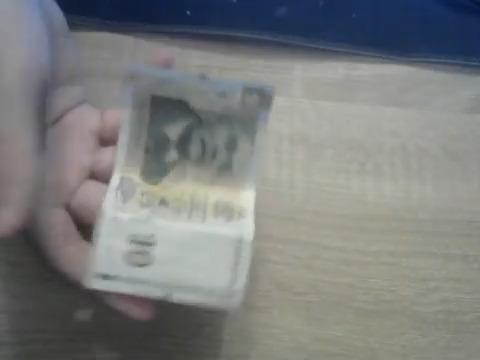10leva: (83, 67, 275, 314)
